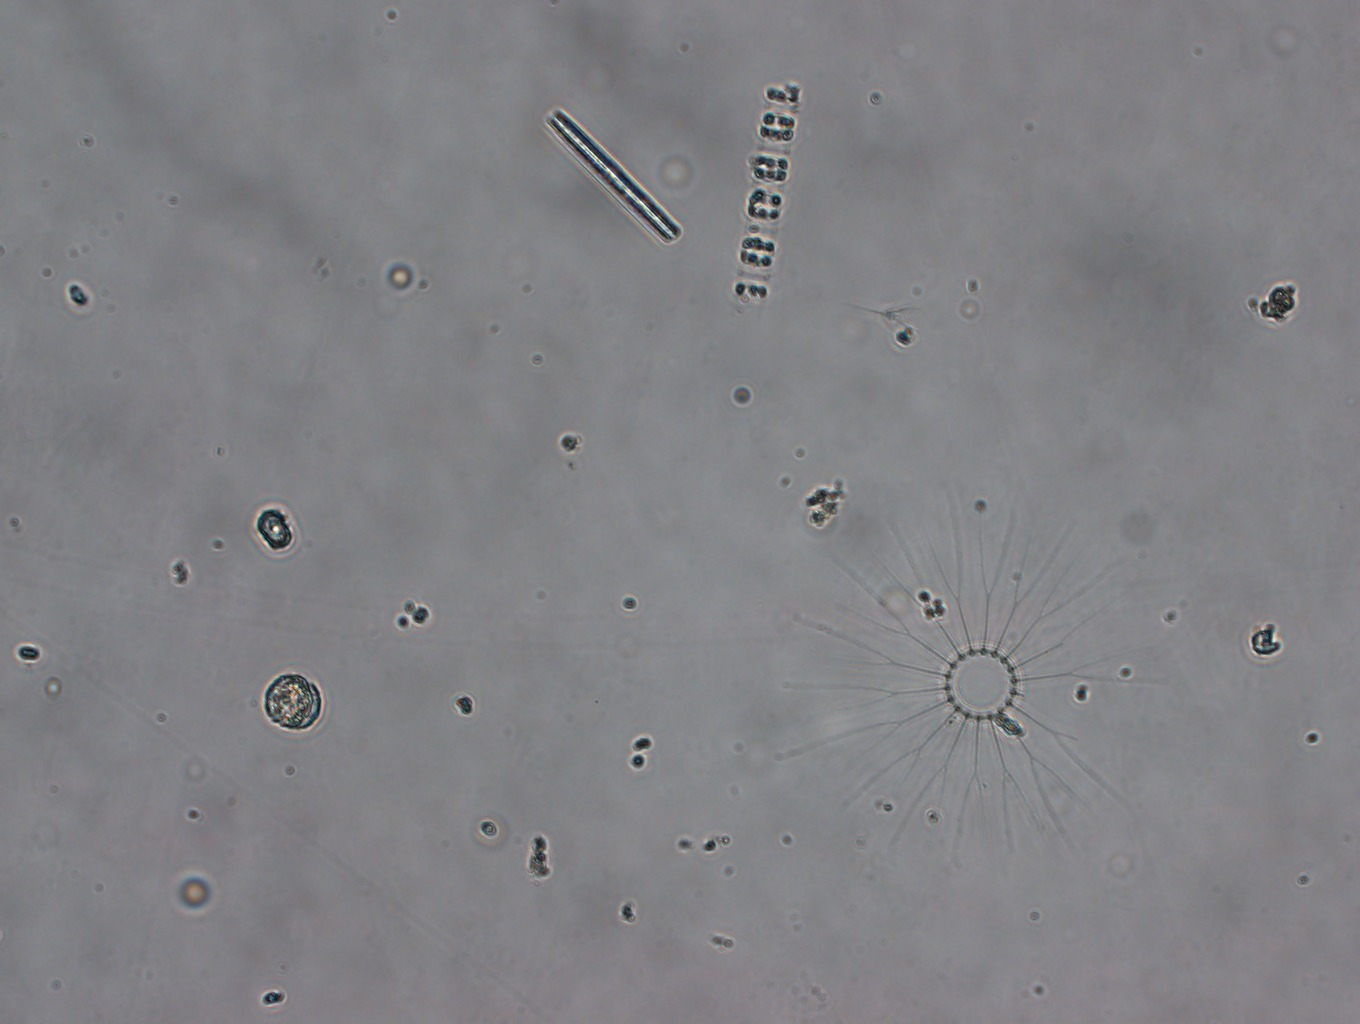bacteriastrum: (779, 490, 1160, 867)
skeletonema: (730, 81, 802, 308)
